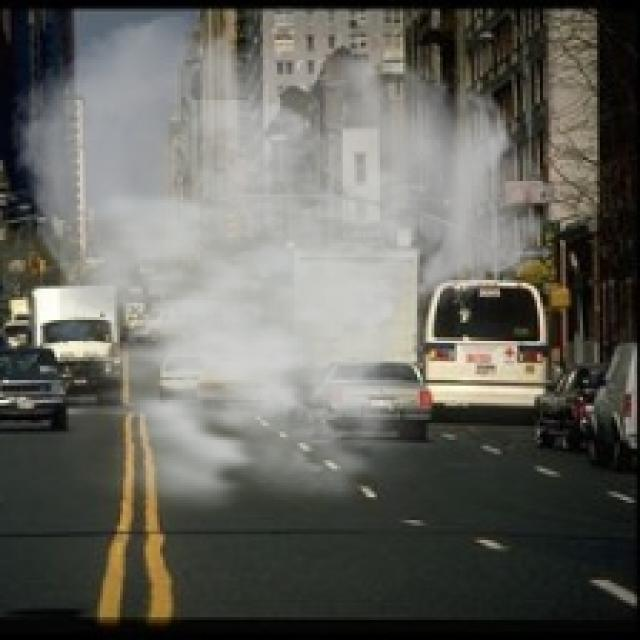smoke: (6, 12, 551, 537)
